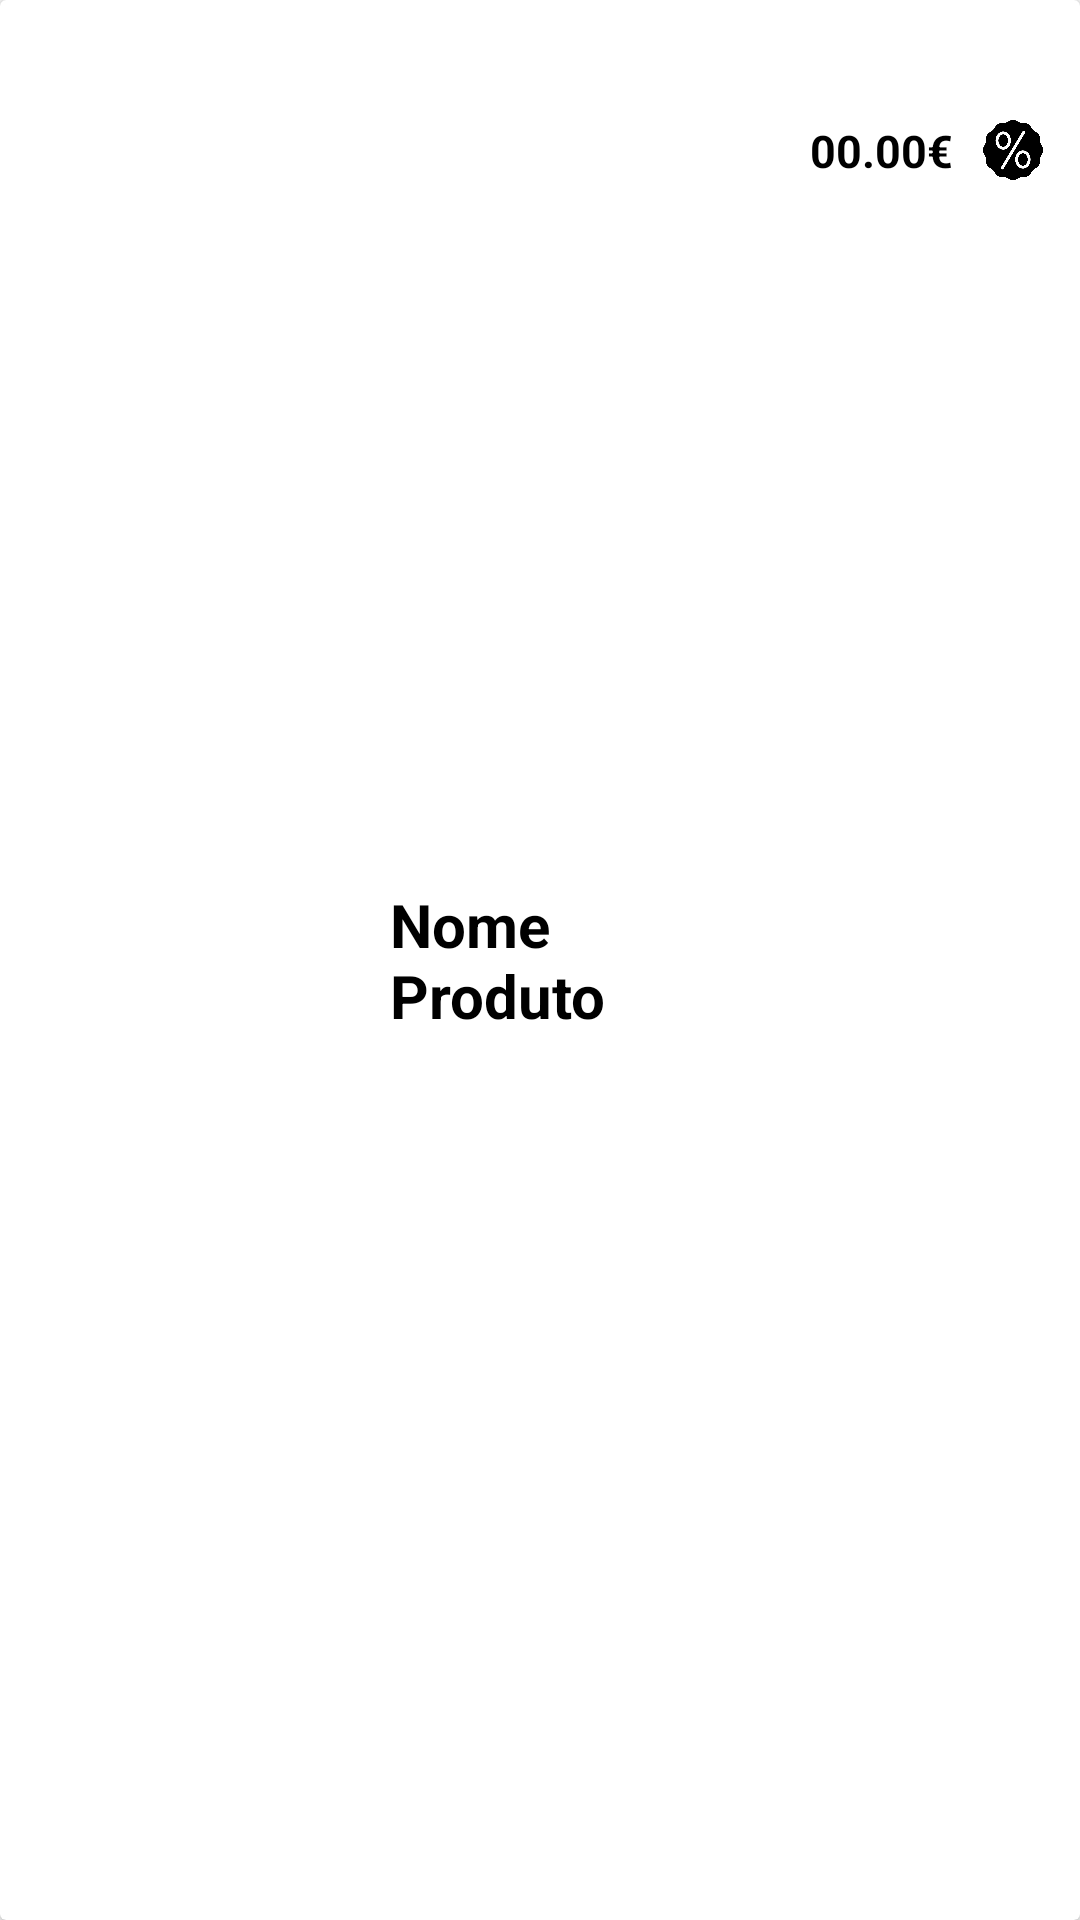

Named icons in this screenshot (1080px×1920px) and their bounding boxes, box=[x1, y1, x2, y2]:
descontos: box=[983, 120, 1043, 180]
